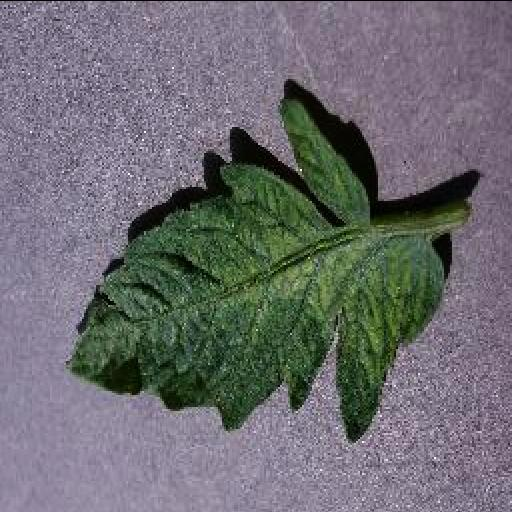Mosaic Virus: (66, 98, 450, 446)
